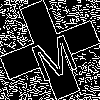M: (25, 25, 80, 83)
